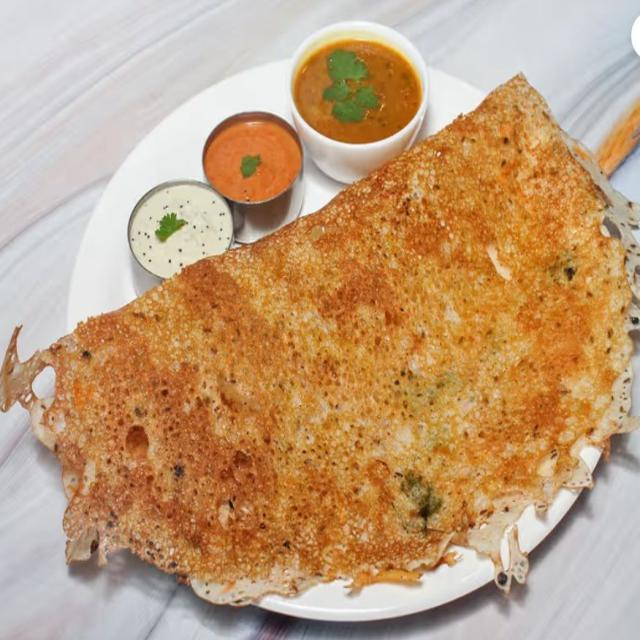DOSA: (2, 63, 639, 617)
RED CHUTNEY: (203, 114, 301, 209)
SAMBAR: (291, 23, 427, 147)
WHITE CHUTNEY: (129, 183, 238, 282)
